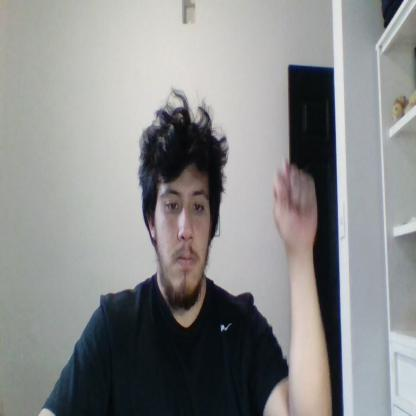T: (272, 158, 318, 252)
